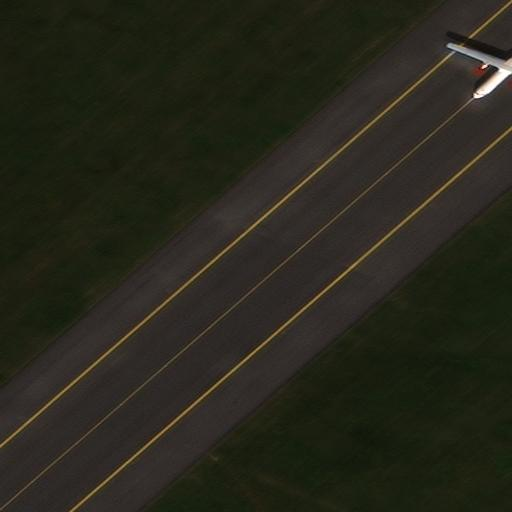Medium Civil Transport: (444, 32, 512, 101)
